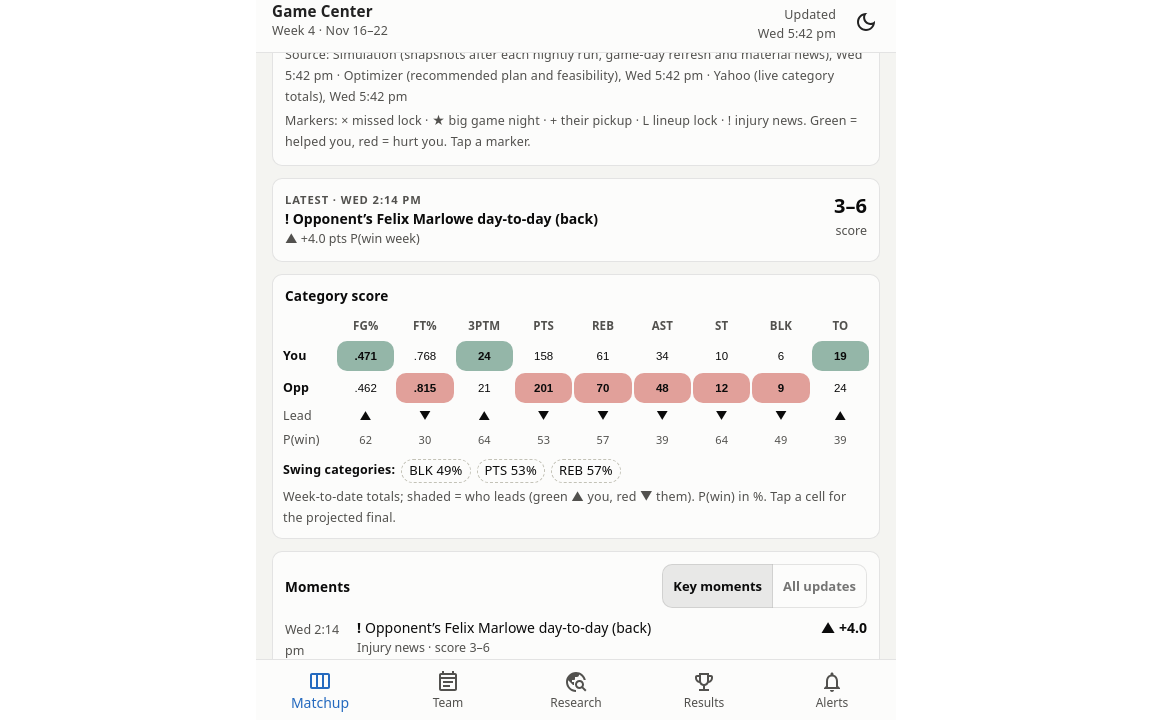
Test: GameCenter › renders the scoreboard and opens a linescore sheet on tap
(page scrolled)
Click the cell named "BLK you:" at (781, 356), box [752, 341, 810, 371]
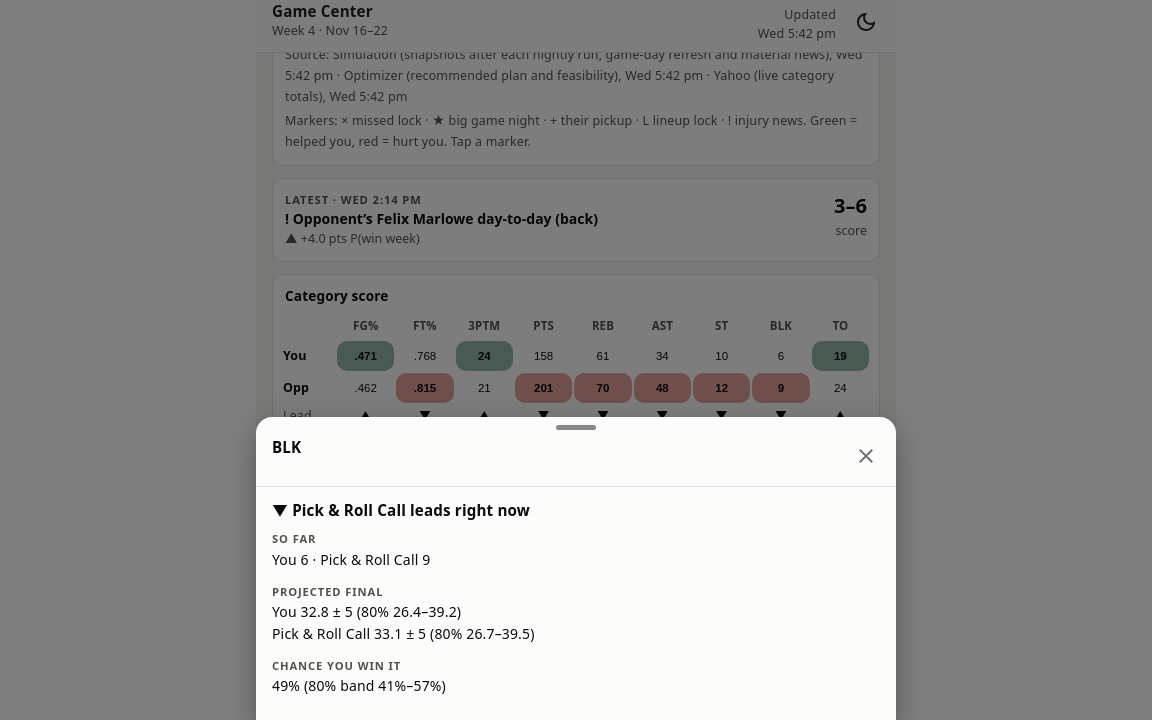
Check: the heading "Projected final" is shown, box [272, 584, 383, 599]
